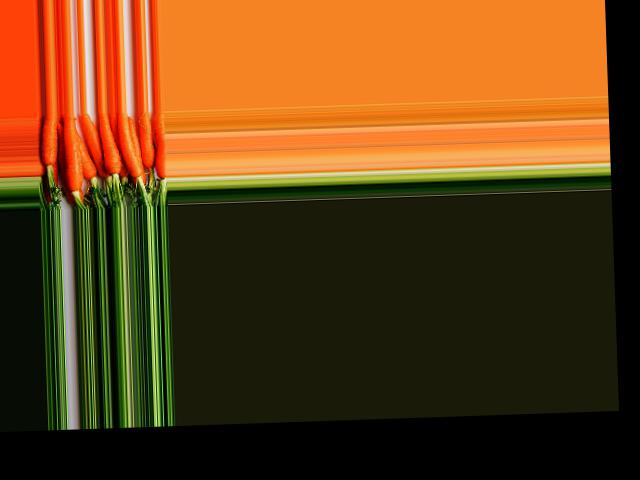carrot: (37, 112, 58, 175)
